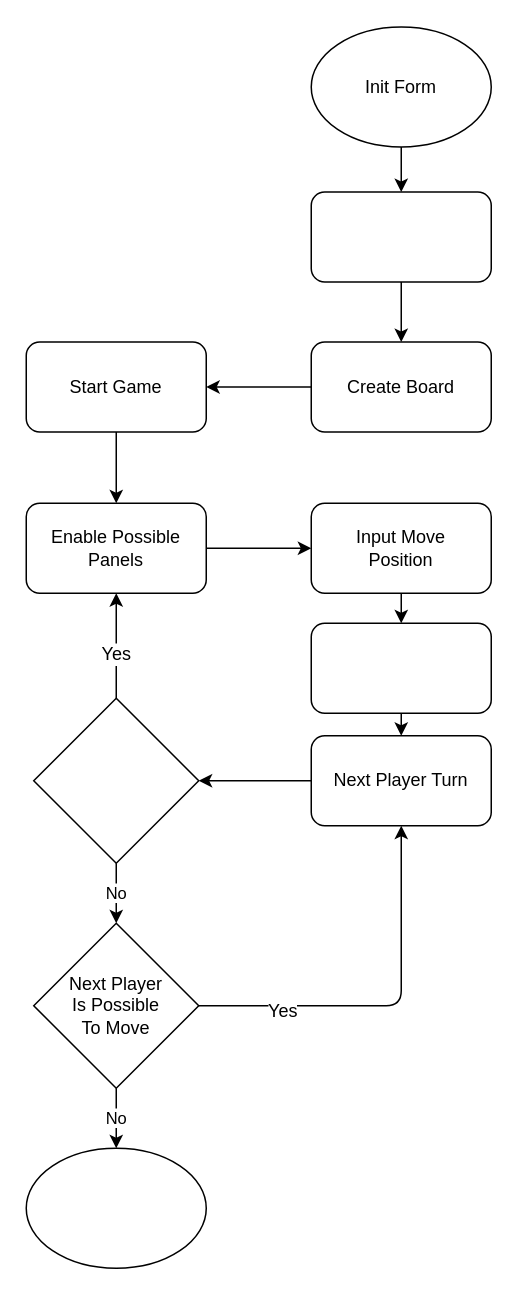
Image size: 518x1295. Some labels were removed from this diagram. The shapes that lost their labels are listed below. From the top down, each one's centre as x and y in pixels, then its label:
(400,236): Init Players
(400,667): Flip Opponent Disks
(115,780): Is Possible To Move
(115,1207): Game Over
